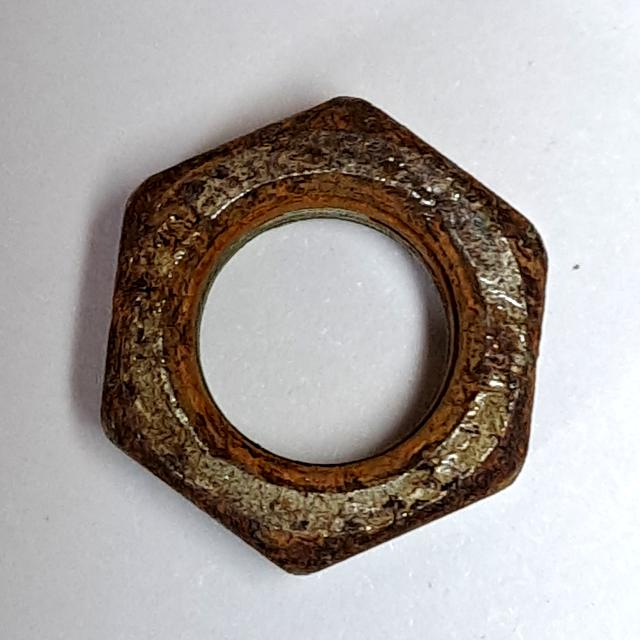Rust: (81, 83, 555, 587)
